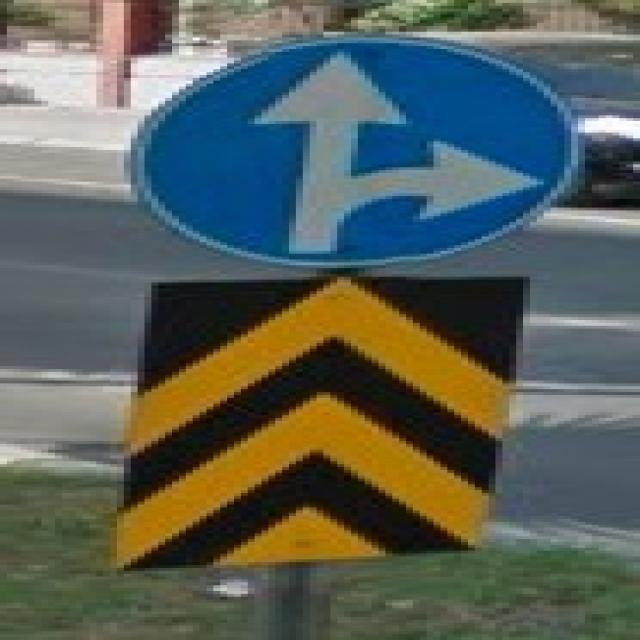Straight or Right: (132, 37, 579, 268)
